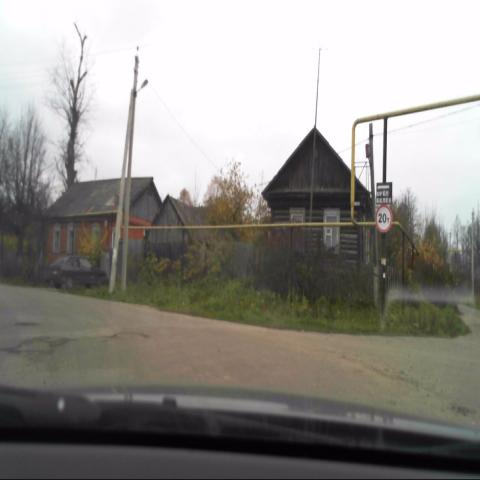3_11: (374, 204, 393, 233)
